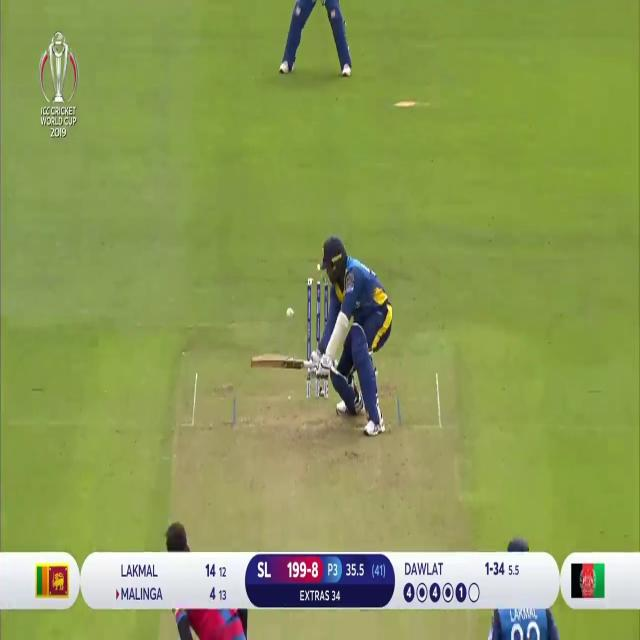ball: (286, 304, 294, 319)
